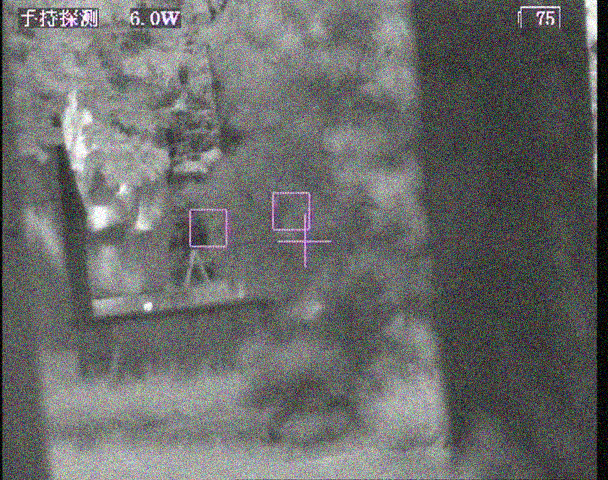my: (142, 301, 154, 311)
